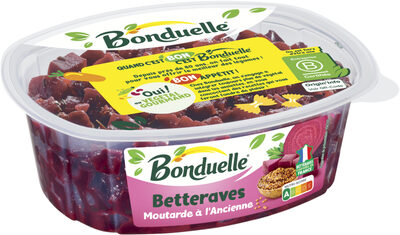Betterave moutarde 320g: (20, 12, 380, 223)
